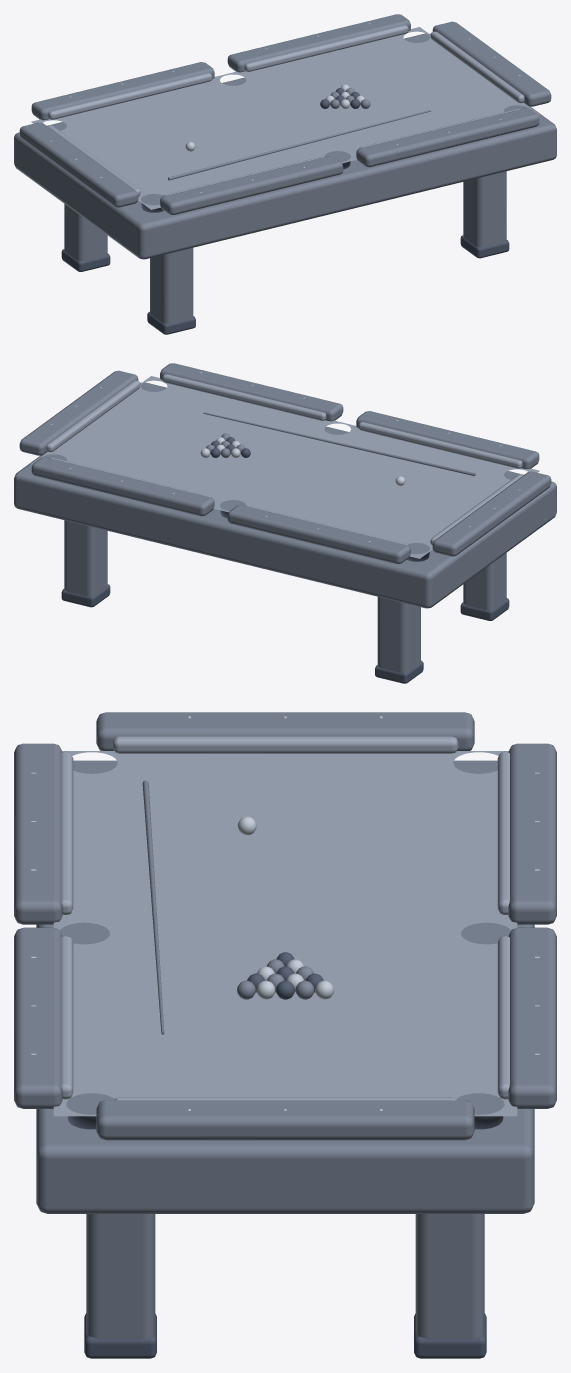
File: pool-table-lite.glb
The picture shows the model from 3 angles, top to bottom: view 1: azimuth 30°, elevation 25°; view 2: azimuth 150°, elevation 25°; view 3: azimuth 270°, elevation 25°; orthographic projection. The views are drawn at different scales.
Parts seen in each view (by area): view 1: pool-table; view 2: pool-table; view 3: pool-table.
Boxes of the visible parts, x1,y1,x2,y2 form: pool-table: (14,14,556,334); pool-table: (14,363,556,683); pool-table: (14,712,556,1358).
Bounding box in the file's own units: 2.54 × 0.823 × 1.42.
